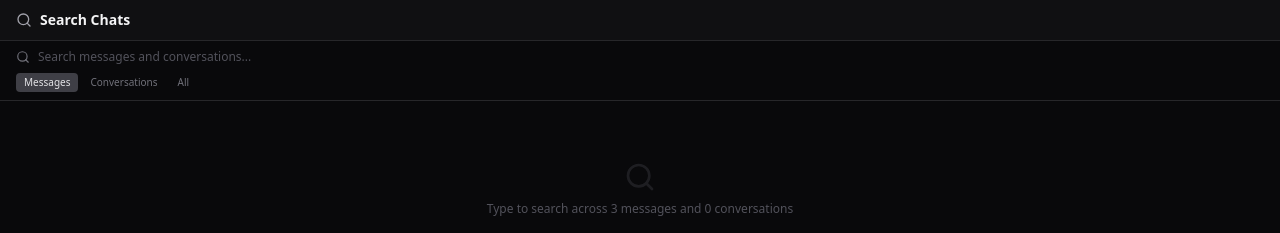
Test case: ChatSearchPanel › filters messages by query
Type "hello" into the field with placeholder "Search messages and conversations..." at (651, 57), box x1=38 y1=49 x2=1264 y2=65
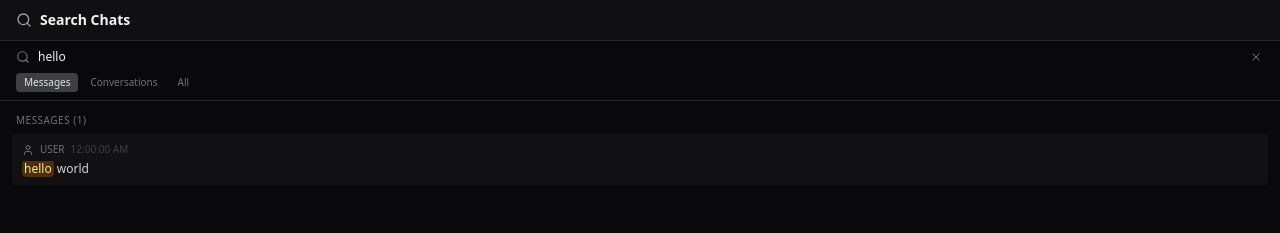
Result: the text "hello world" is shown at x1=22 y1=160 x2=89 y2=177
